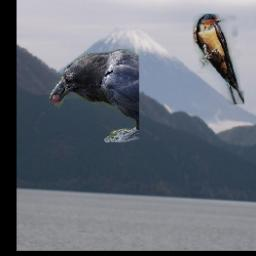Crow: (50, 50, 140, 143)
Swallow: (194, 14, 245, 105)
